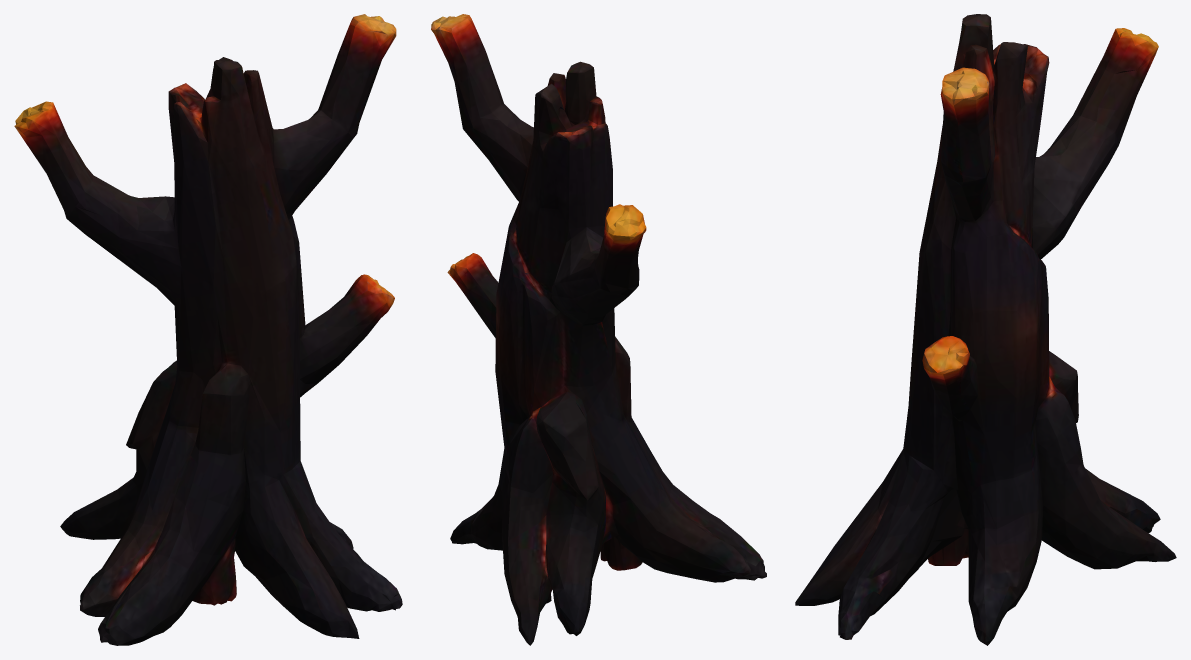
Rendered from d_braises_arbre.glb.
3 views of the same model, side by side, from view 1: azimuth 30°, elevation 25°; view 2: azimuth 150°, elevation 25°; view 3: azimuth 270°, elevation 25° (orthographic). The views are drawn at different scales.
Parts seen in each view (by area): view 1: geometry_0; view 2: geometry_0; view 3: geometry_0.
Boxes of the visible parts, x1,y1,x2,y2 form: geometry_0: (14,14,402,645); geometry_0: (431,14,766,645); geometry_0: (795,14,1176,645).
Size of the model in its own units: 0.6211 by 1 by 0.5961.
Materials: 1 (1 with a texture image).
